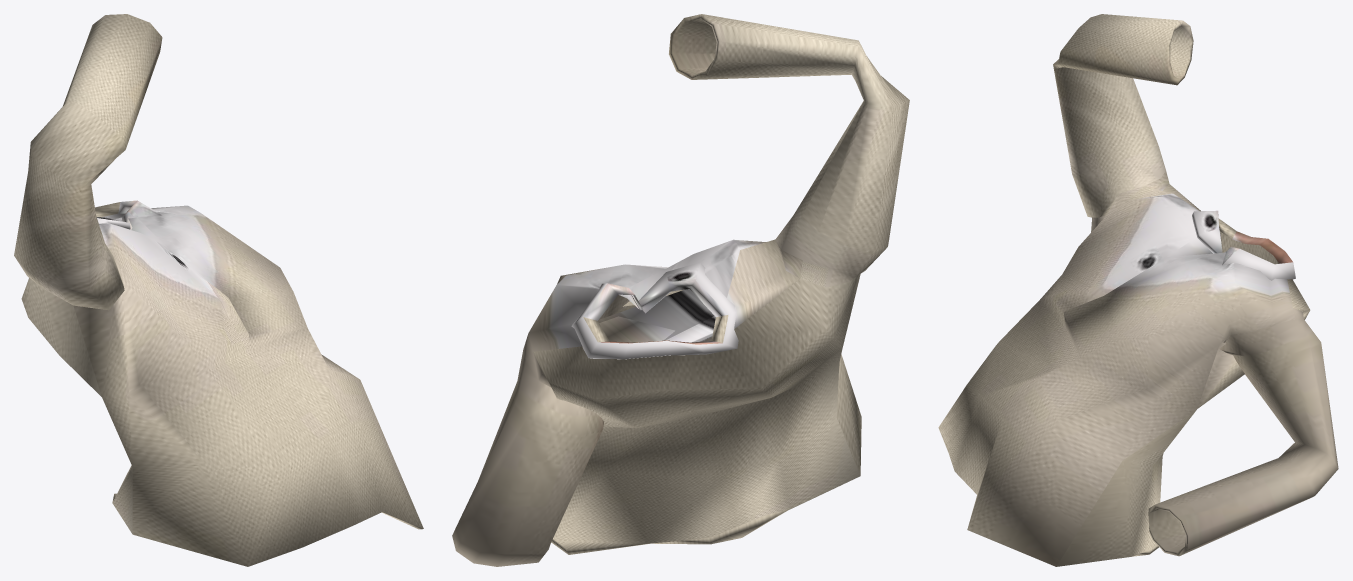
File: Top2.fbx
3 views of the same model, side by side, from view 1: azimuth 30°, elevation 25°; view 2: azimuth 150°, elevation 25°; view 3: azimuth 270°, elevation 25° (orthographic). The views are drawn at different scales.
Parts seen in each view (by area): view 1: F.Top.Long.001; view 2: F.Top.Long.001; view 3: F.Top.Long.001.
Part boxes in pixels (<box>): F.Top.Long.001: <box>14,14,423,566</box>; F.Top.Long.001: <box>452,14,909,566</box>; F.Top.Long.001: <box>938,14,1338,566</box>.
Bounding box in the file's own units: 458 × 642 × 505.
